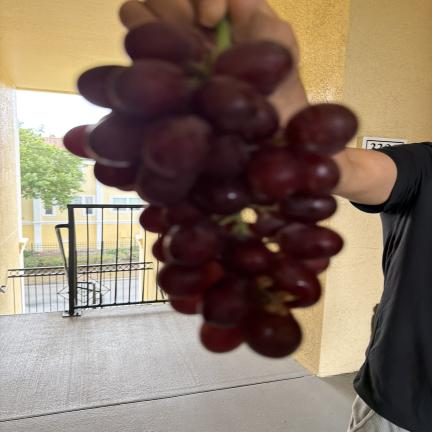grape_cluster: (63, 19, 357, 358)
